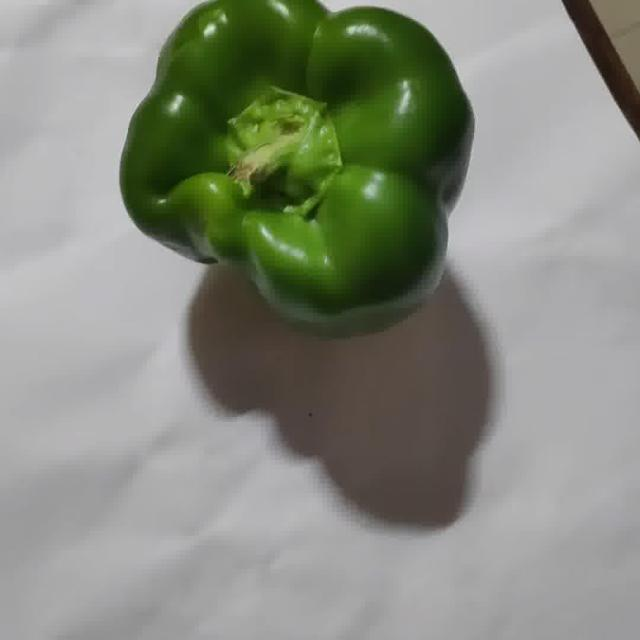Bell Pepper: (121, 0, 473, 335)
